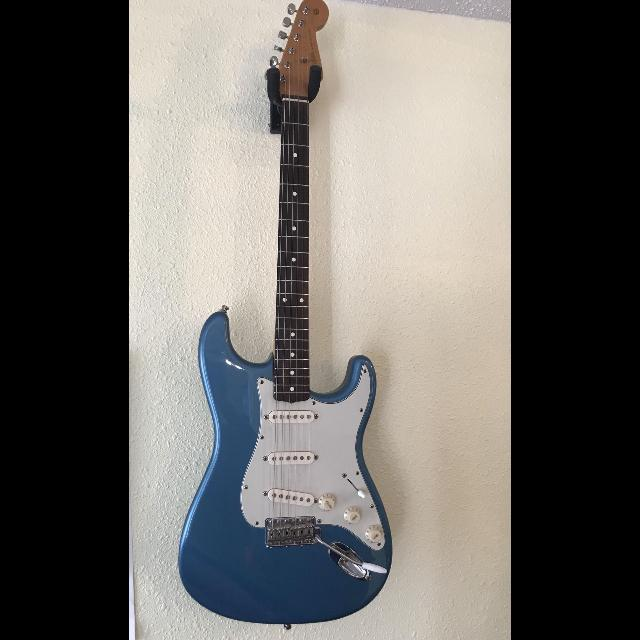Electric-Guitar: (187, 0, 393, 632)
